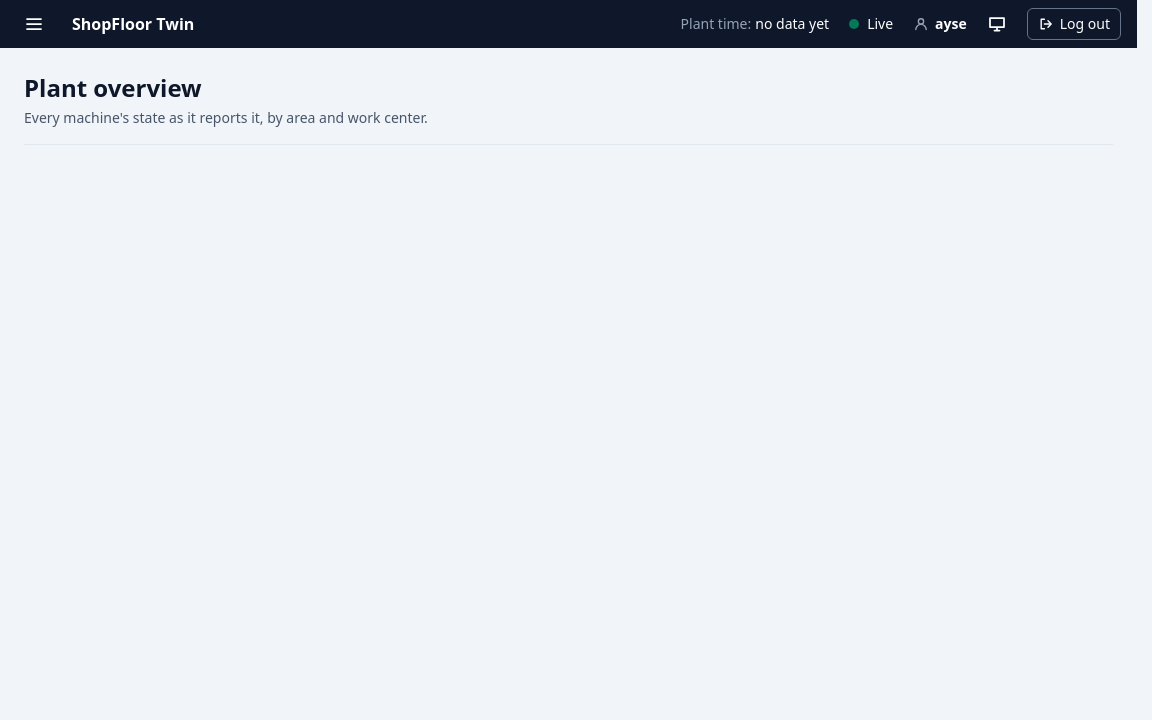
Test: a logout a page left on its way, replayed by the next page of the tab › reads the session as usual when the storage refuses
This screenshot has width=1152, height=720.
Check: the text "ayse" is shown, box [935,14,967,34]
Check: the text with test id "signed-in-user" reads "ayse", box [935,14,967,33]
Click the button with test id "logout" at (1074, 24), box [1027,8,1121,40]
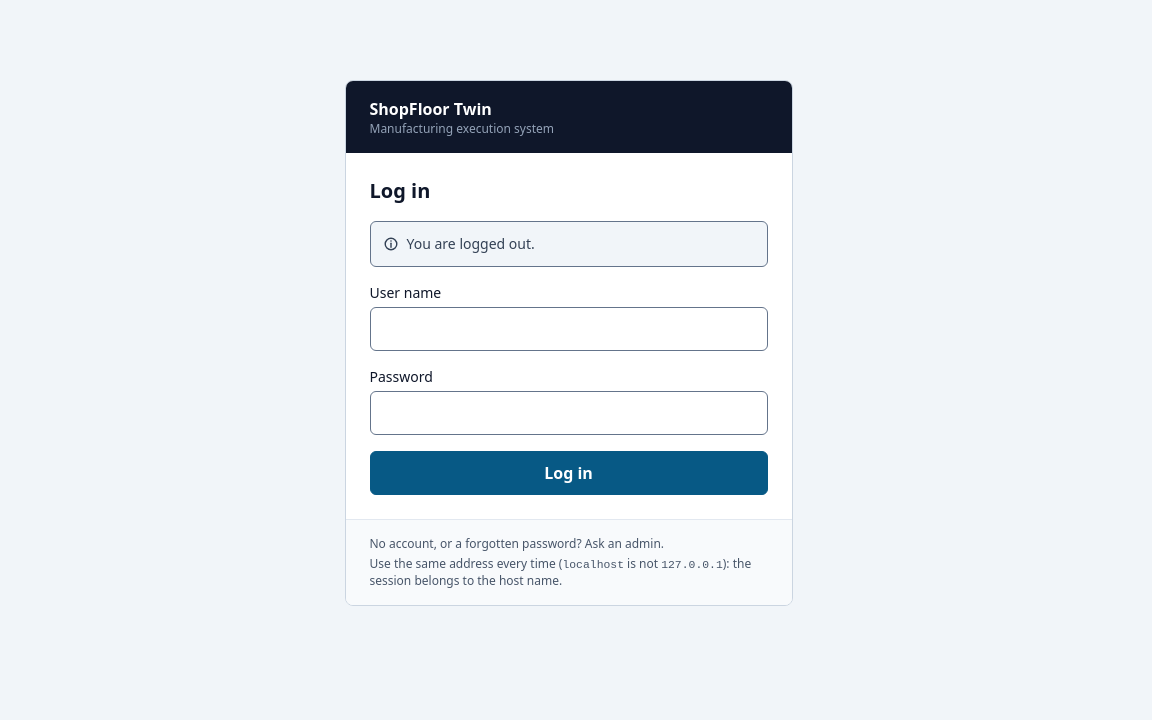
Check: the button with test id "login-submit" reads "Log in", box [370,451,768,495]
